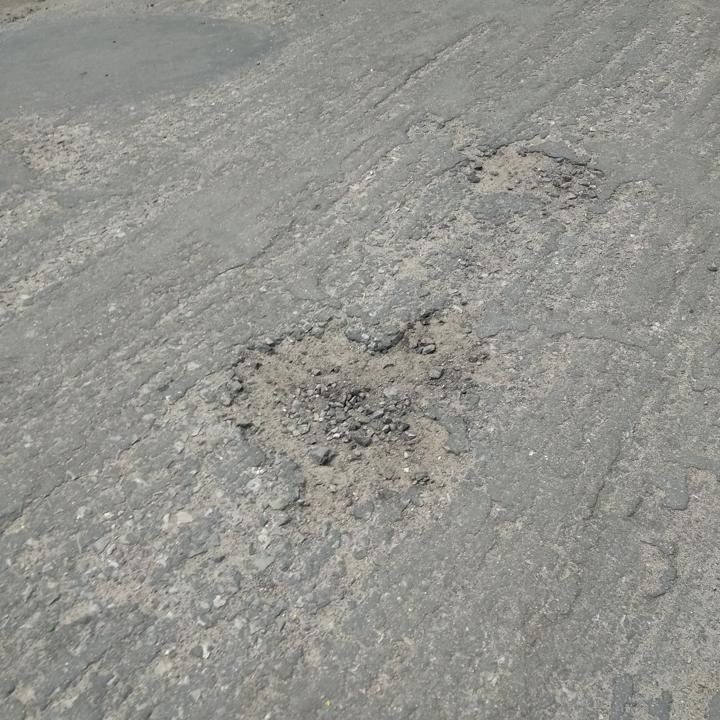pothole: (230, 300, 482, 523), (463, 134, 611, 208)
